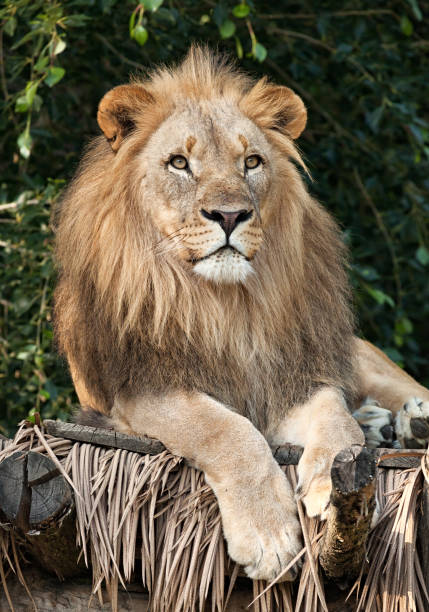lion: (42, 23, 364, 409)
